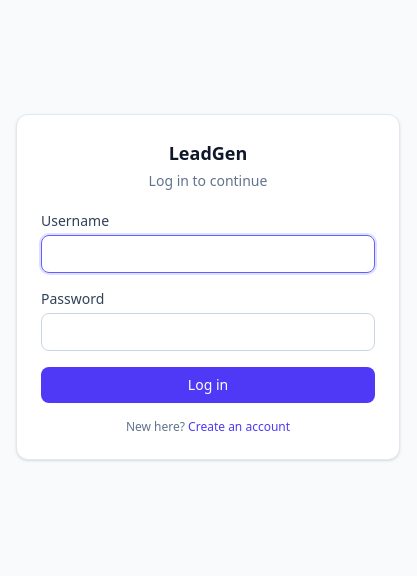
Test: Login form validation › requires matching passwords on register
Click the button "Create an account" at (239, 427), box [188,419,290,435]
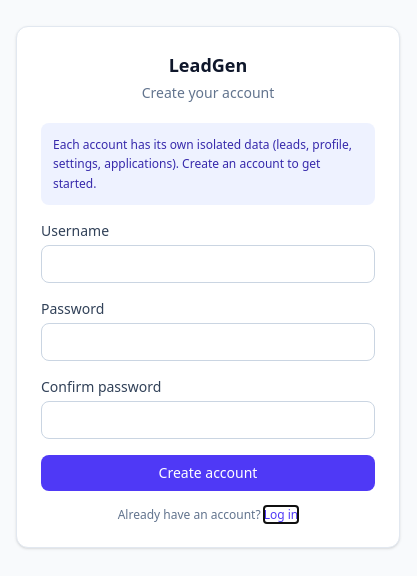
Type "alice" into the field labelled "Username" at (208, 264), box [41,245,375,283]
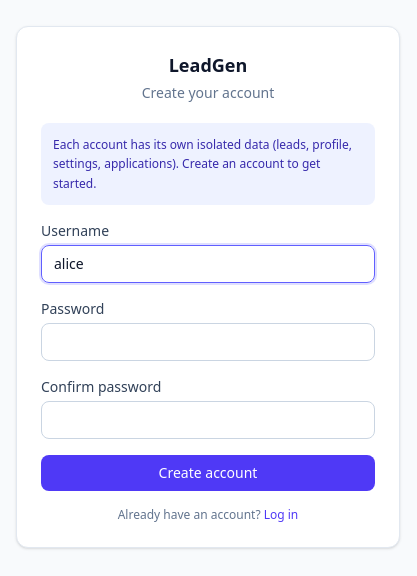
Type "secret123" into the password field labelled "Password" at (208, 342), box [41,323,375,361]
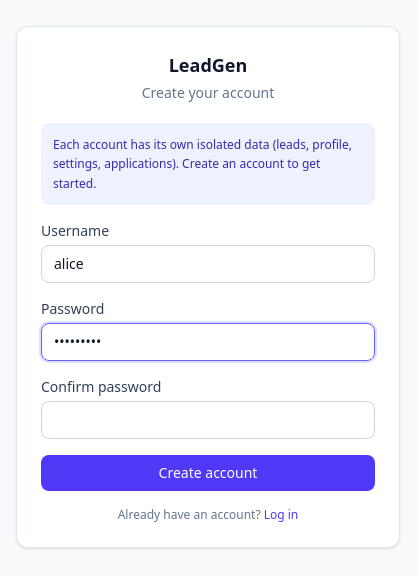
Type "secret456" into the password field labelled "Confirm password" at (208, 420), box [41,401,375,439]
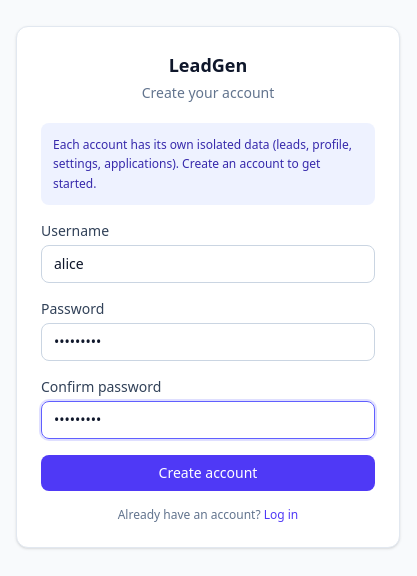
Click the button "Create account" at (208, 473), box [41,455,375,491]
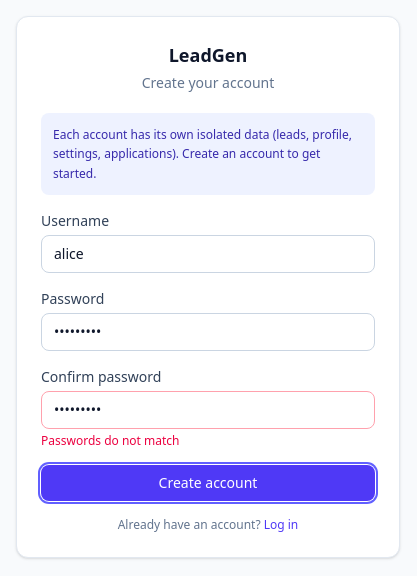
Result: the text "Passwords do not match" is shown at [41,432,180,449]
